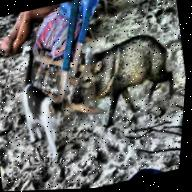boar: (55, 23, 190, 133)
